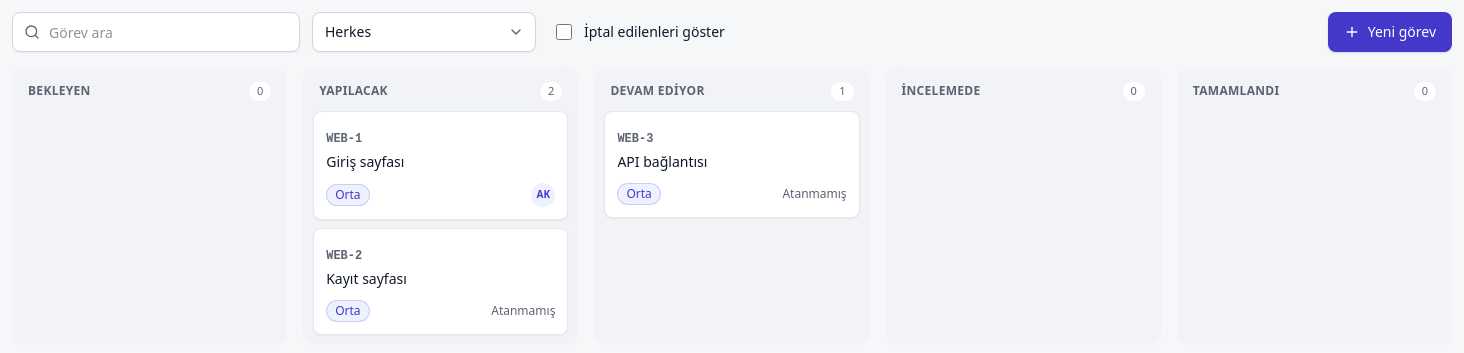
Test: TaskBoard › shows cancelled tasks on request
Expected: the text "Giriş sayfası" is shown, [326,152,404,171]
Click the checkbox labelled "İptal edilenleri göster".
click(564, 32)  # box [556,24,572,40]
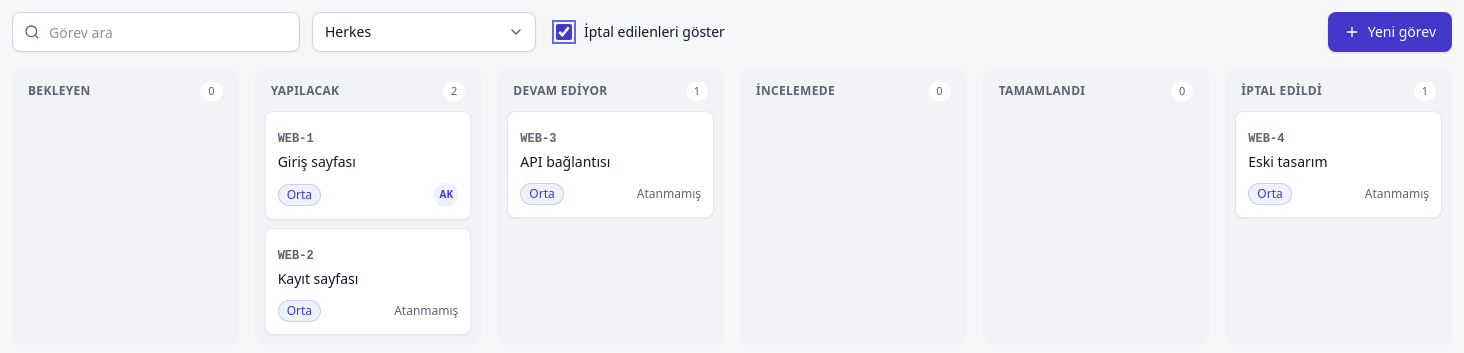
Result: the text "Eski tasarım" is shown at [1248,152,1328,171]
